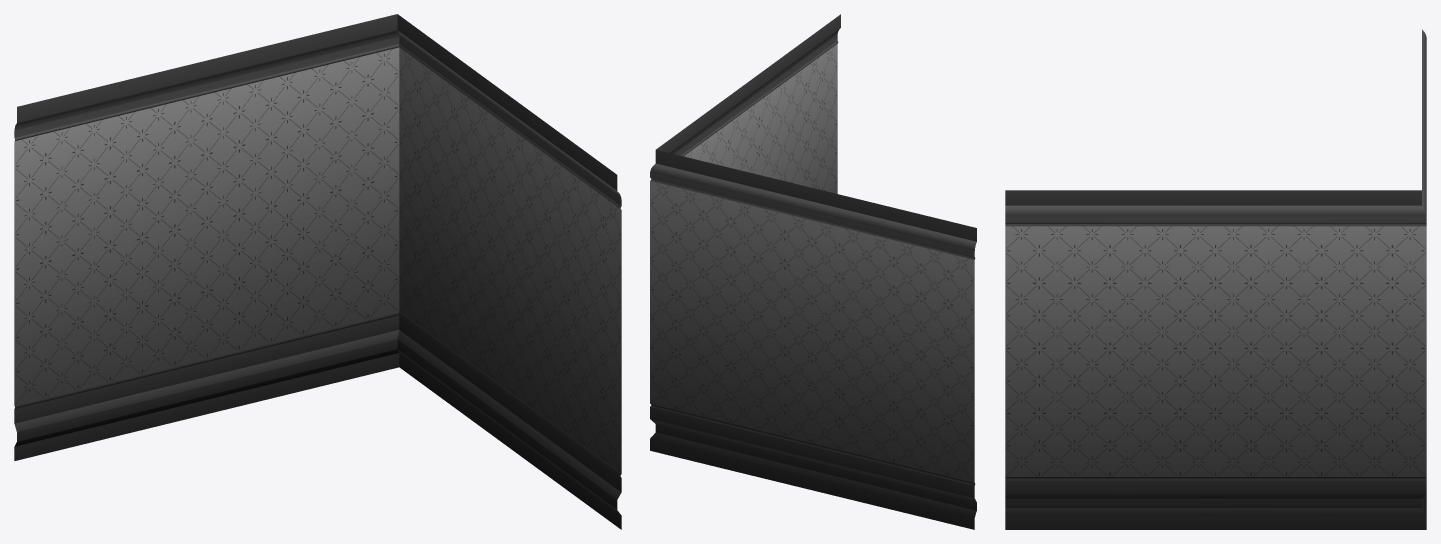
File: Wall_02_Int_Long_Dark.fbx
3 views of the same model, side by side, from view 1: azimuth 30°, elevation 25°; view 2: azimuth 150°, elevation 25°; view 3: azimuth 270°, elevation 25° (orthographic). The views are drawn at different scales.
Visible parts, largest first — view 1: Wall_02_Int_Long_Dark; view 2: Wall_02_Int_Long_Dark; view 3: Wall_02_Int_Long_Dark.
Boxes of the visible parts, bbox=[...] form: Wall_02_Int_Long_Dark: bbox=[14, 14, 621, 529]; Wall_02_Int_Long_Dark: bbox=[650, 14, 976, 529]; Wall_02_Int_Long_Dark: bbox=[1005, 29, 1426, 529].
Bounding box in the file's own units: 3 × 2.65 × 3.
